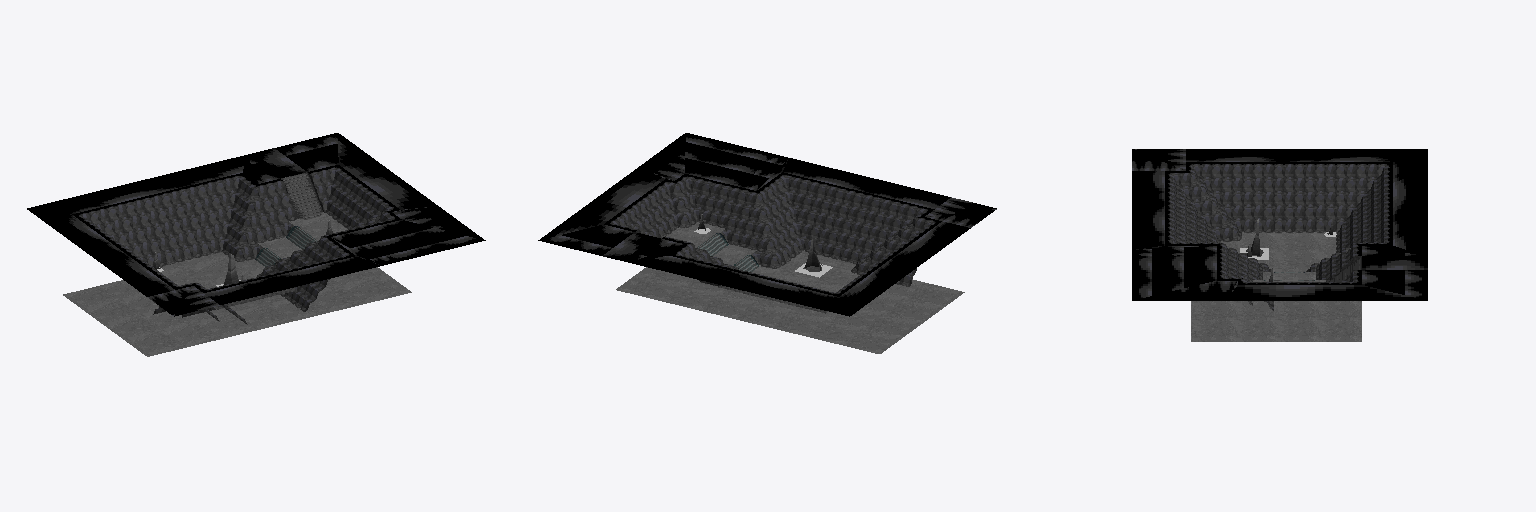
3 views of the same model, side by side, from view 1: azimuth 30°, elevation 25°; view 2: azimuth 150°, elevation 25°; view 3: azimuth 270°, elevation 25° (orthographic).
Parts seen in each view (by area): view 1: polygon6, polygon2, polygon5, polygon3, polygon4, polygon1, polygon8; view 2: polygon6, polygon2, polygon5, polygon3, polygon4, polygon8; view 3: polygon6, polygon5, polygon2, polygon3, polygon4.
Part boxes in pixels (x1,y1,x2,y2): polygon6: (27,133,485,316); polygon2: (63,212,411,356); polygon5: (85,171,389,318); polygon3: (80,168,393,318); polygon4: (144,196,358,324); polygon1: (281,172,324,219); polygon8: (255,226,316,266); polygon6: (538,133,996,316); polygon2: (616,222,964,353); polygon5: (617,179,928,274); polygon3: (611,175,934,293); polygon4: (650,203,913,286); polygon8: (697,233,758,271); polygon6: (1132,149,1427,300); polygon5: (1174,167,1383,310); polygon2: (1191,232,1361,341); polygon3: (1170,165,1387,301); polygon4: (1191,180,1350,305).
Size of the model in its own units: 8.7 by 1.67 by 7.14.
Materials: 13 (12 with a texture image).